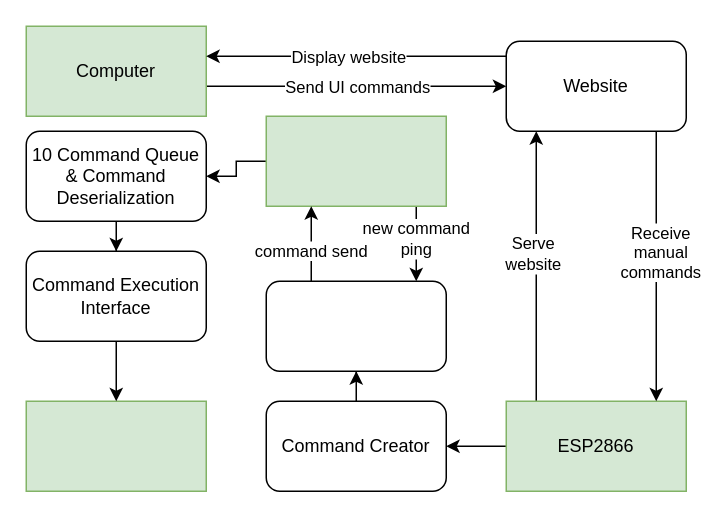
Some shapes in this 726 by 518 pixel diagram are drawn without their labels. Here are the shapes that lost their labels. From the top down, the centre of each, then its label:
(x=355, y=160): Arduino Mega
(x=355, y=325): Serial Interface
(x=115, y=445): GAMTRY
